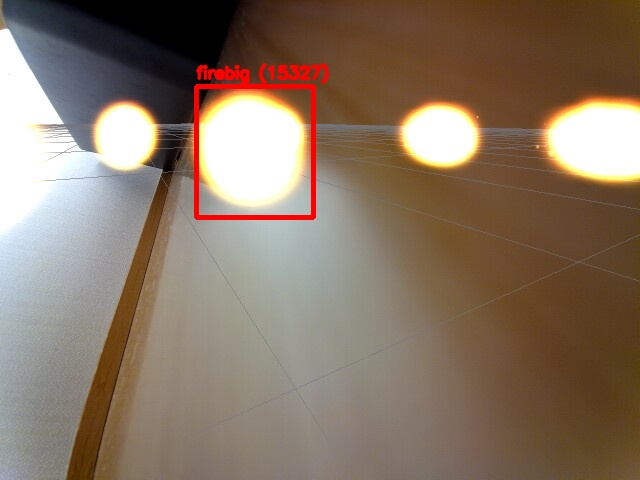firebig: (196, 86, 313, 217)
